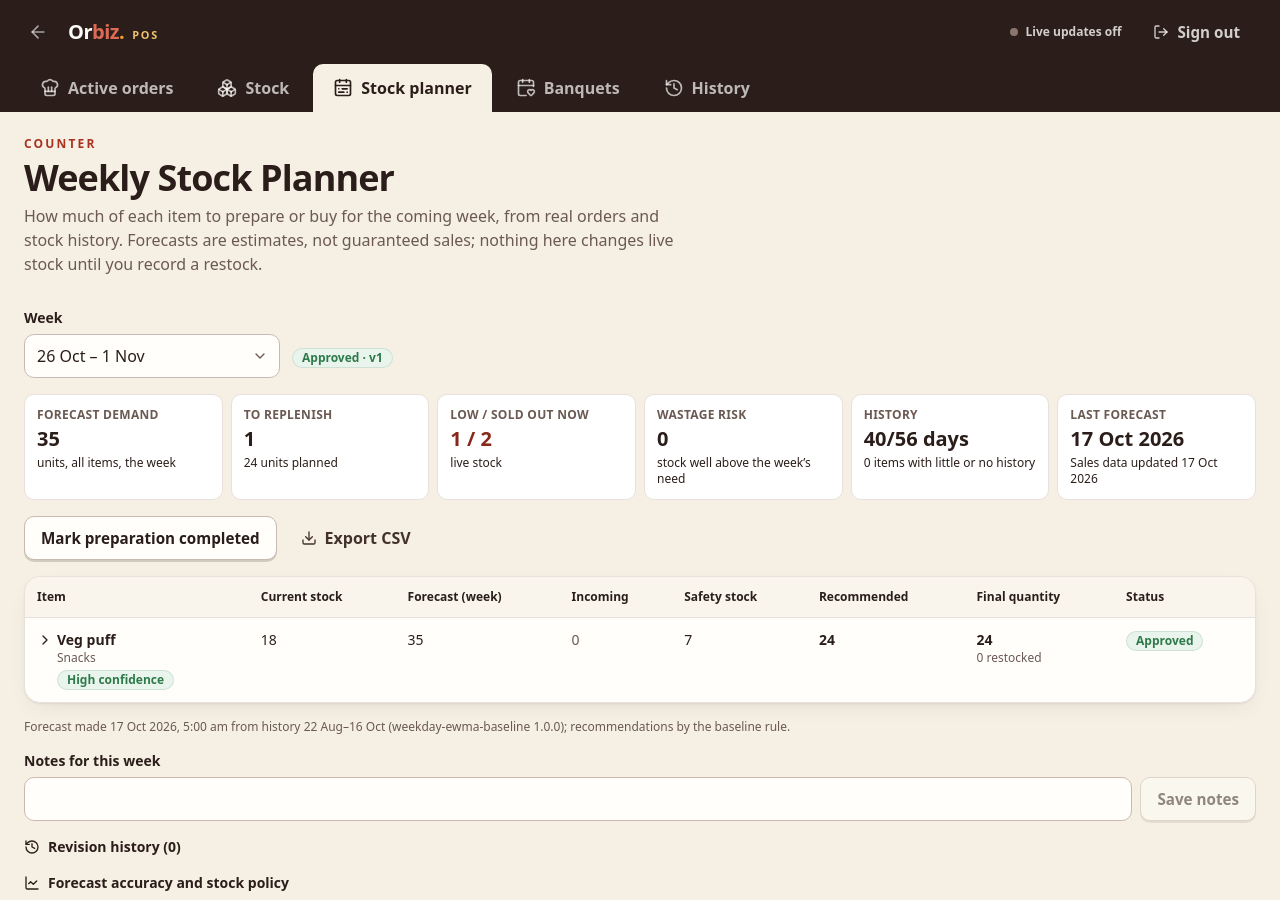
Weekly Stock Planner › records a real restock against an approved plan with a retry-safe key
The image size is (1280, 900).
Click the button "Veg puff Snacks" at (76, 648), box [37,630,116,666]
(page scrolled)
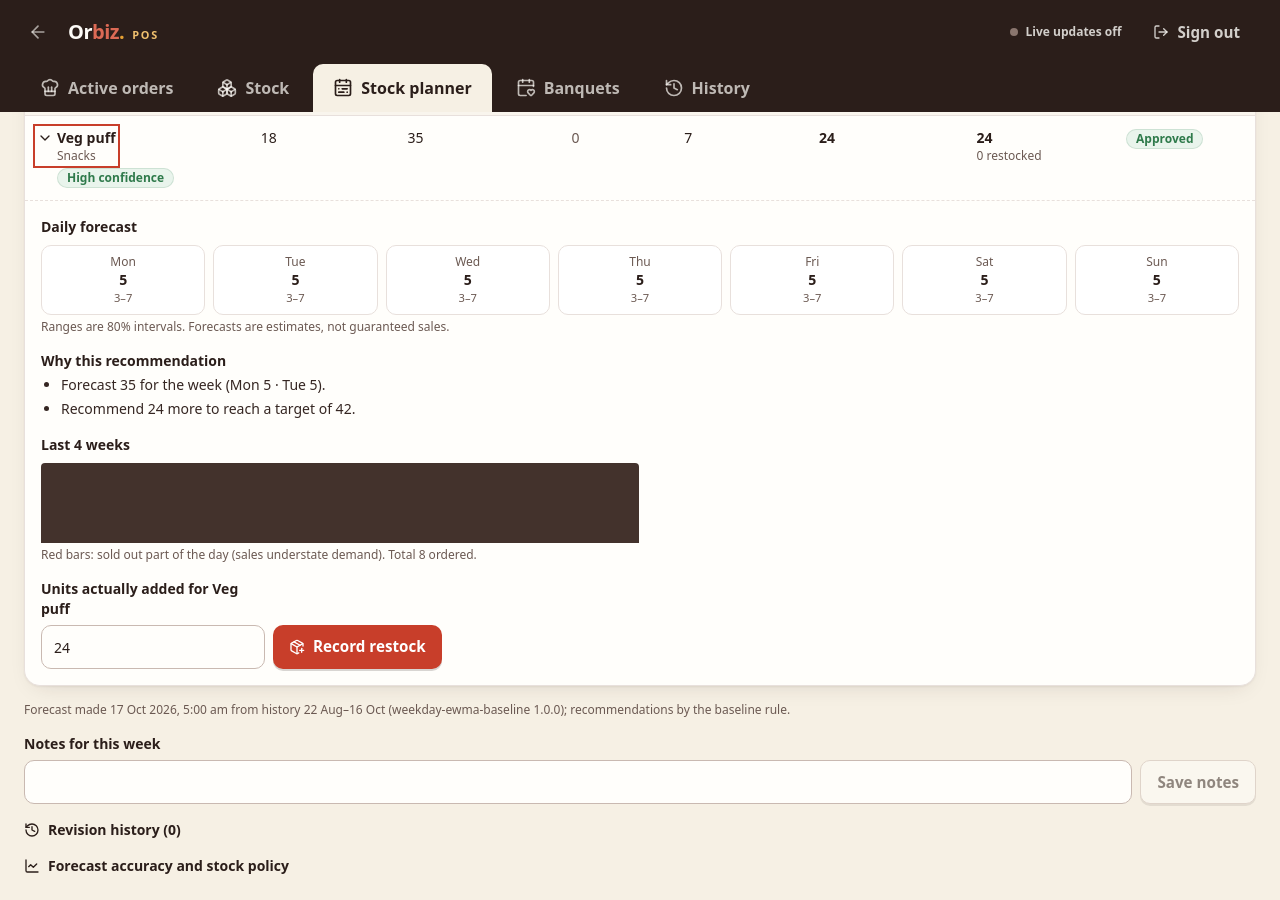
Now the field labelled "Units actually added for Veg puff" holds "24", box [54,626,252,668]
Click the button "Record restock" at (357, 647), box [273,625,442,669]
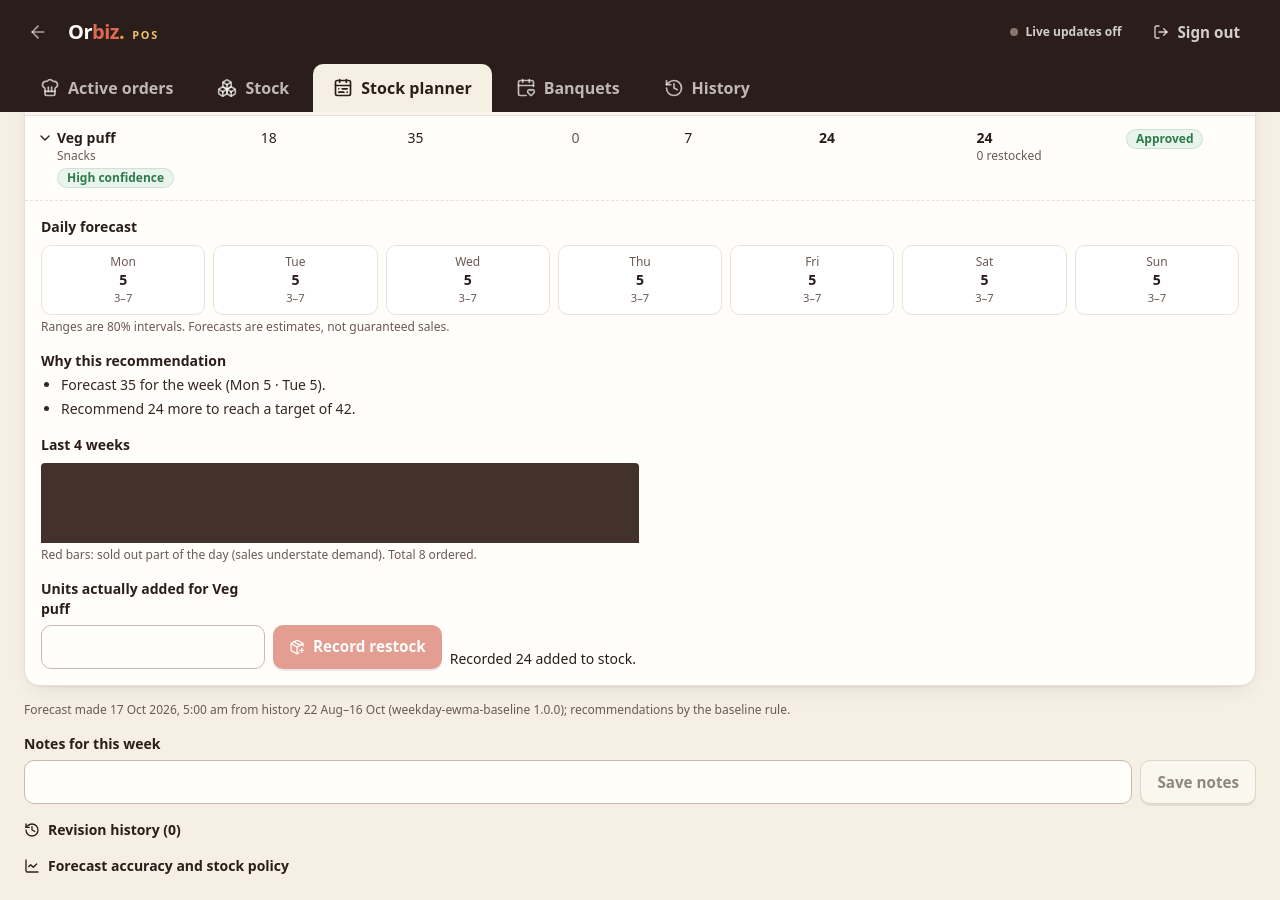
Now the text "Recorded 24 added to stock." is shown, box [450,649,636,669]
